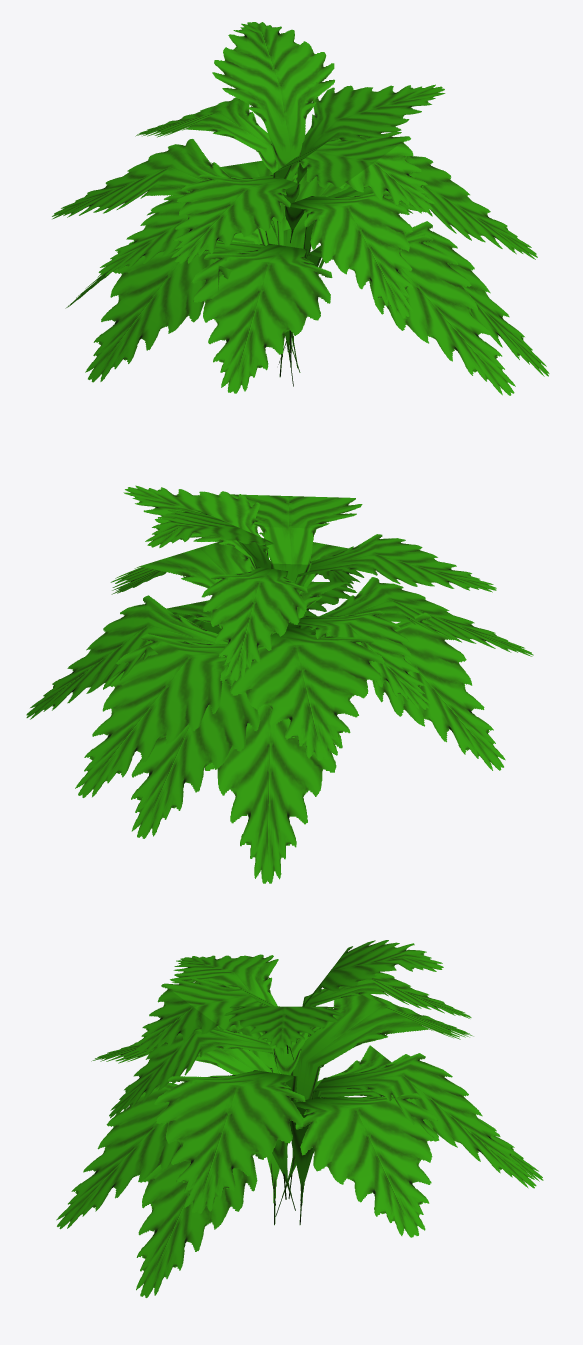
The model's file is Leaf.FBX.
The picture shows the model from 3 angles, top to bottom: view 1: azimuth 30°, elevation 25°; view 2: azimuth 150°, elevation 25°; view 3: azimuth 270°, elevation 25°; orthographic projection. The views are drawn at different scales.
Parts seen in each view (by area): view 1: Plane021; view 2: Plane021; view 3: Plane021.
Boxes of the visible parts, x1,y1,x2,y2 form: Plane021: (52, 22, 549, 395); Plane021: (26, 485, 533, 883); Plane021: (56, 940, 543, 1297).
Size of the model in its own units: 13.87 by 8.91 by 14.94.
Materials: 1 (1 with a texture image).
